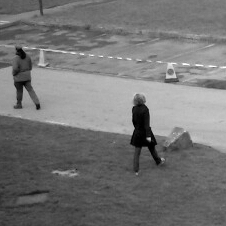person: (129, 93, 166, 175), (11, 44, 41, 108)
